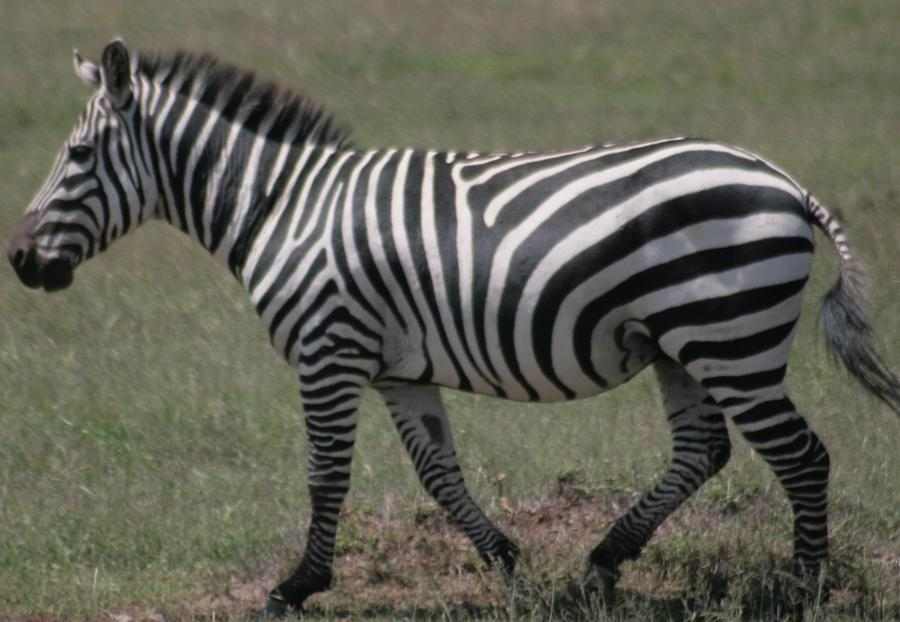zebra_plains: (268, 129, 822, 406)
